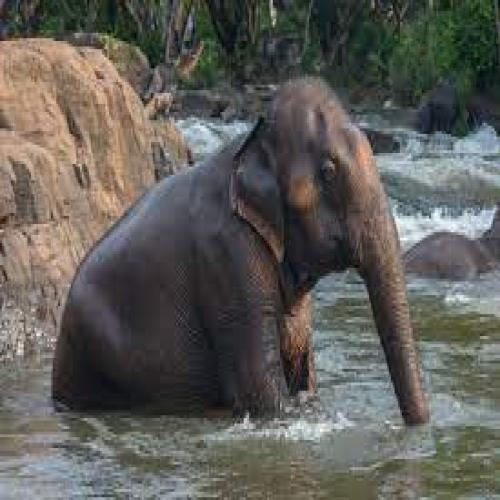asian_elephant-endangered: (50, 77, 429, 423)
